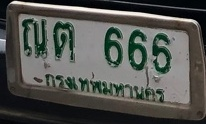txt14: (20, 17, 49, 60)
txt16: (51, 20, 76, 63)
